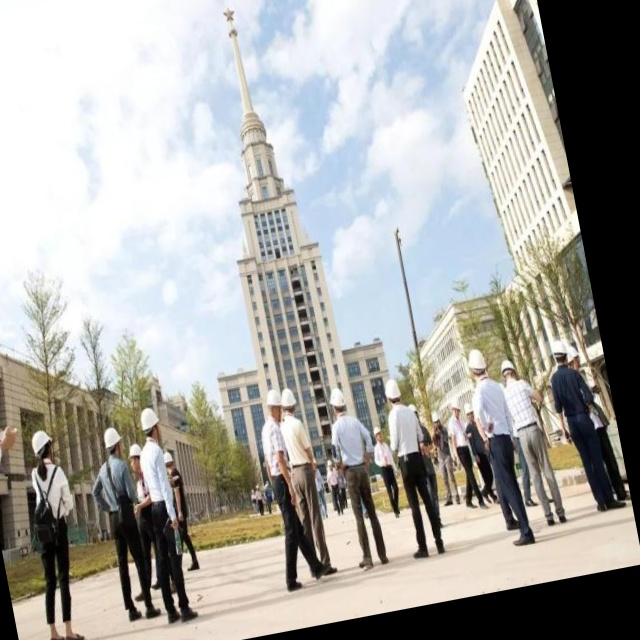Con_Casco: (138, 405, 164, 445), (466, 346, 490, 380), (279, 386, 299, 415), (382, 378, 403, 405), (499, 357, 518, 383), (328, 387, 347, 412)
